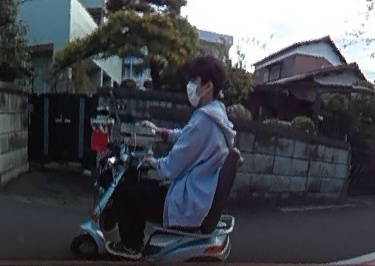person: (115, 55, 233, 251)
